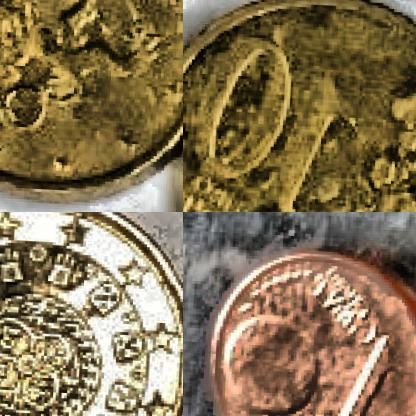coin: (183, 0, 415, 211), (0, 0, 182, 208), (199, 240, 415, 415), (0, 212, 182, 415)
